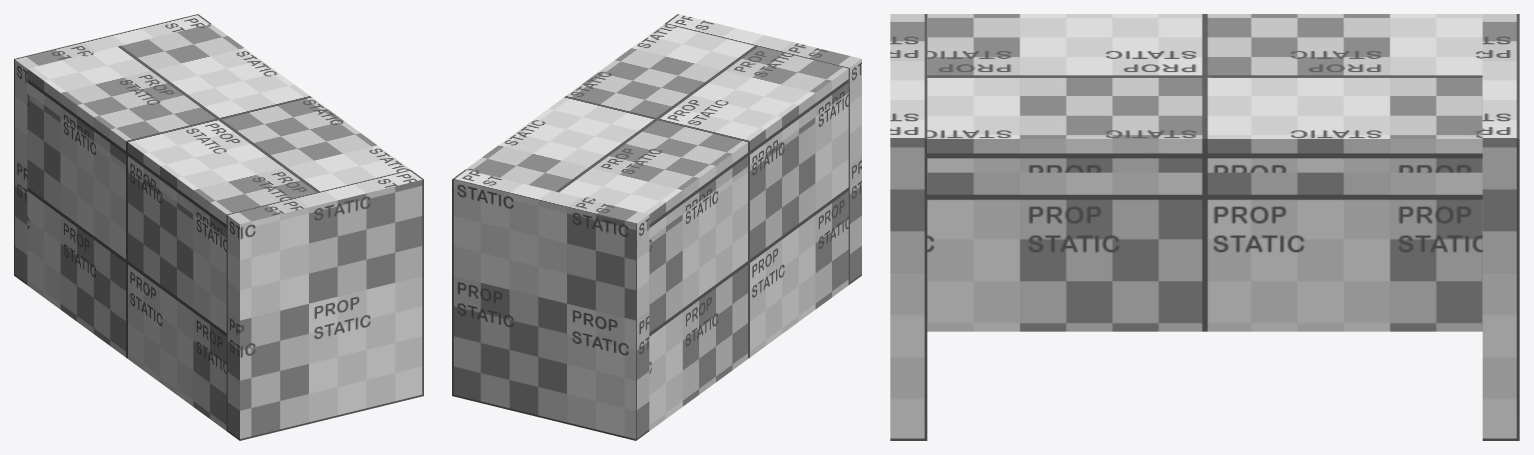
The model's file is JMB_Desk_F.fbx.
3 renders of one model, left to right at view 1: azimuth 30°, elevation 25°; view 2: azimuth 150°, elevation 25°; view 3: azimuth 270°, elevation 25°, orthographic. The views are drawn at different scales.
Visible parts, largest first — view 1: Desk_Side__1_, Desk_Top, Desk_Front, Desk_Side; view 2: Desk_Side, Desk_Top, Desk_Front, Desk_Side__1_; view 3: Desk_Front, Desk_Top, Desk_Side, Desk_Side__1_.
Part boxes in pixels (bbox=[...]): Desk_Side__1_: bbox=[226, 169, 423, 440]; Desk_Top: bbox=[27, 23, 410, 238]; Desk_Front: bbox=[27, 93, 226, 430]; Desk_Side: bbox=[14, 14, 210, 284]; Desk_Side: bbox=[452, 169, 649, 440]; Desk_Top: bbox=[465, 23, 848, 238]; Desk_Front: bbox=[649, 93, 848, 430]; Desk_Side__1_: bbox=[665, 14, 861, 284]; Desk_Front: bbox=[927, 172, 1482, 331]; Desk_Top: bbox=[927, 14, 1482, 172]; Desk_Side: bbox=[1482, 14, 1519, 440]; Desk_Side__1_: bbox=[890, 14, 927, 440].
Size of the model in its own units: 80 by 90 by 170.
